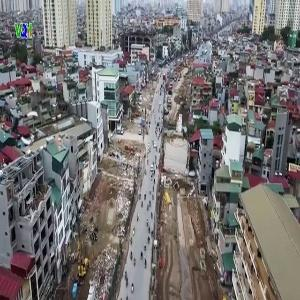drone: (4, 108, 41, 145)
